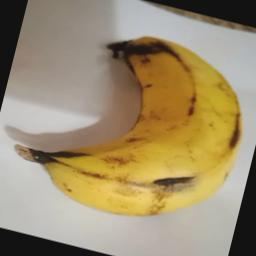Banana Unripe: (9, 18, 256, 239)
